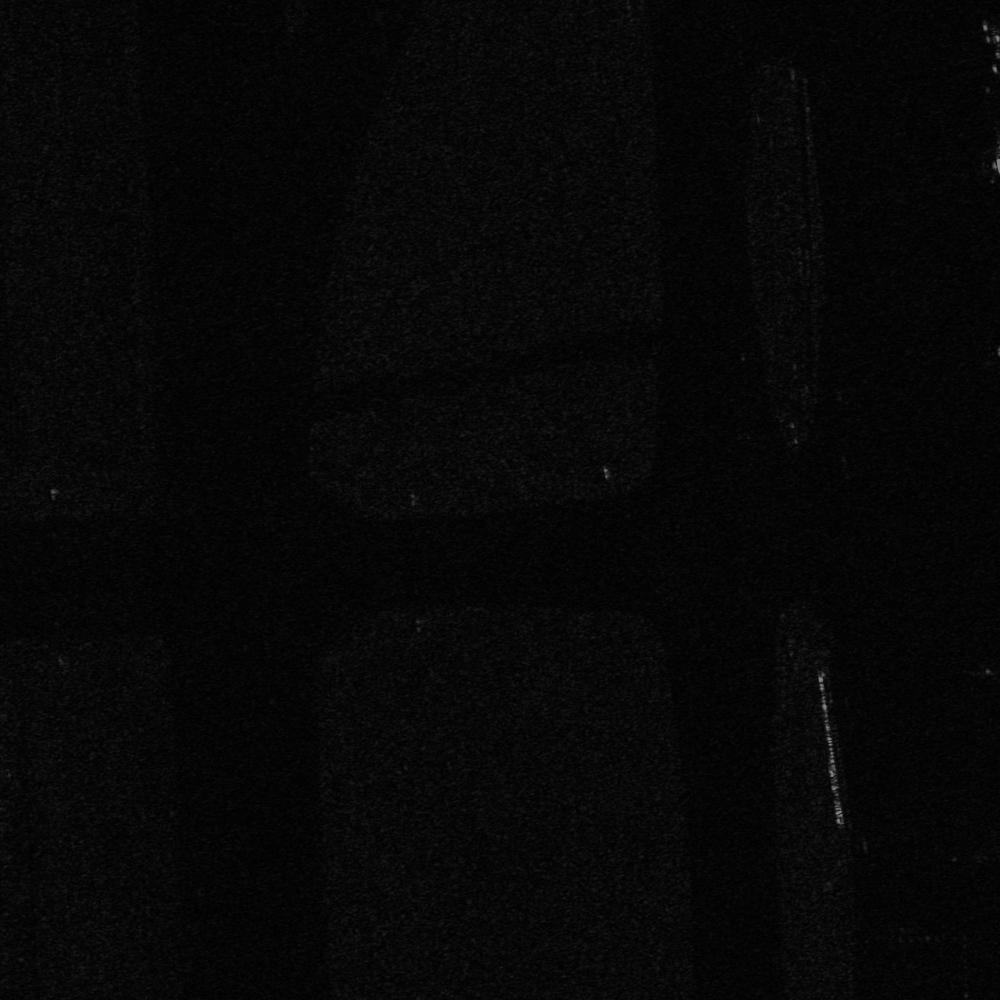ARJ21: (971, 141, 999, 184)
